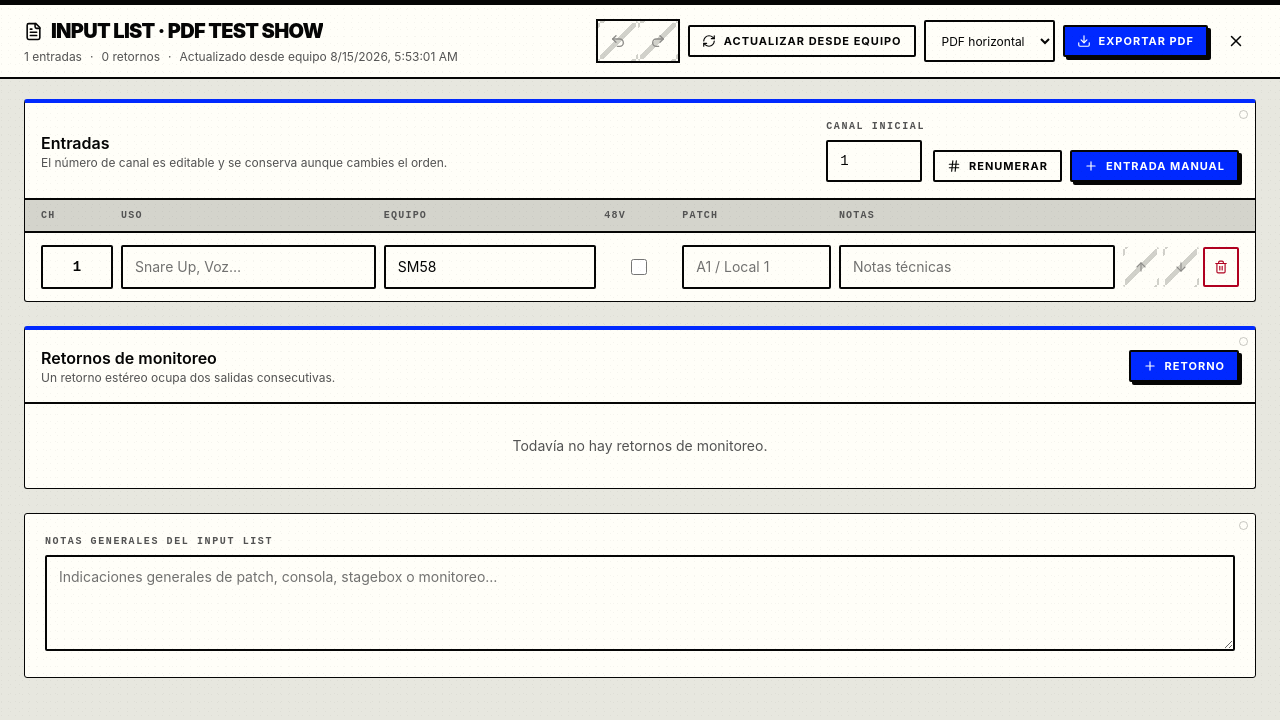
Test: Input List PDF export › 18. a PDF generation failure shows a controlled error instead of crashing, and the button recovers
Click the button "Exportar PDF" at (1135, 41), box [1062,25,1208,57]
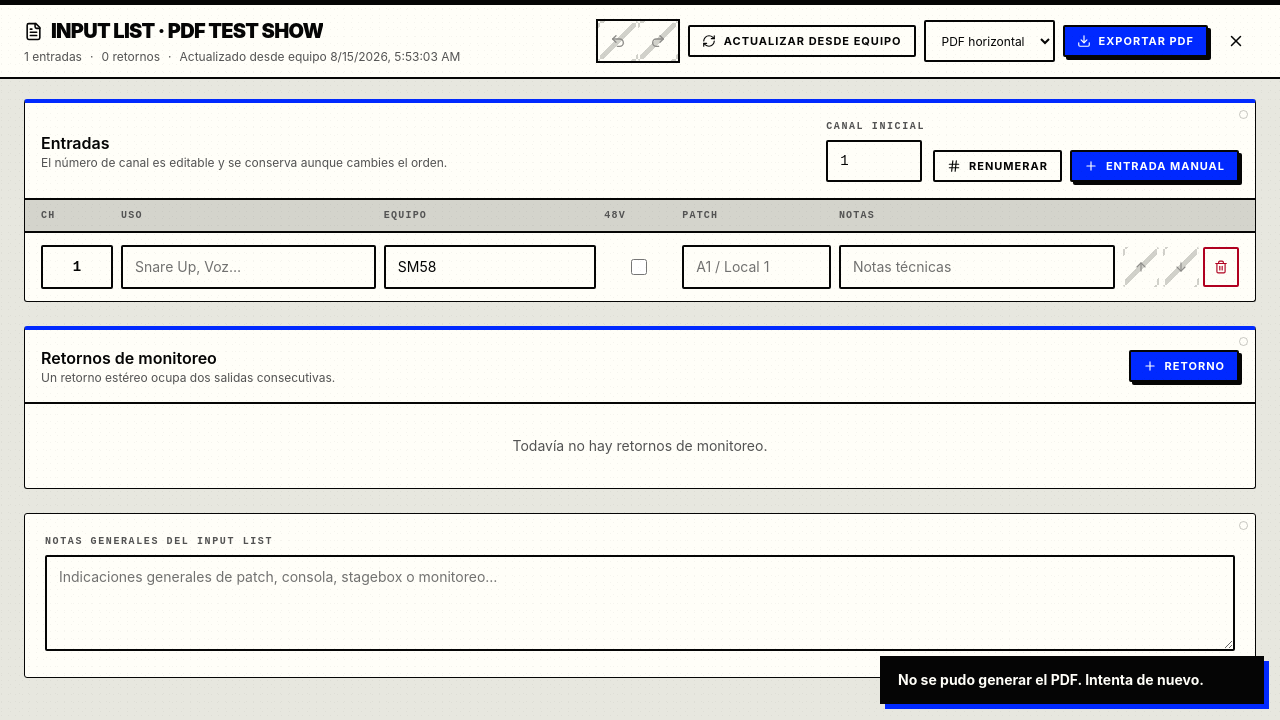
Result: the text "No se pudo generar el PDF. Intenta de nuevo." is shown at [898,670,1204,690]
